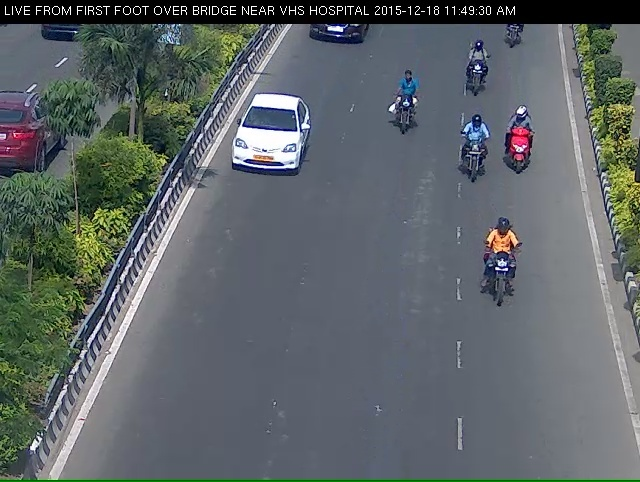Car: (230, 101, 305, 198), (302, 25, 372, 56)
Person: (482, 228, 528, 326), (456, 121, 492, 195), (506, 114, 537, 185), (384, 80, 416, 148), (465, 48, 491, 101)
